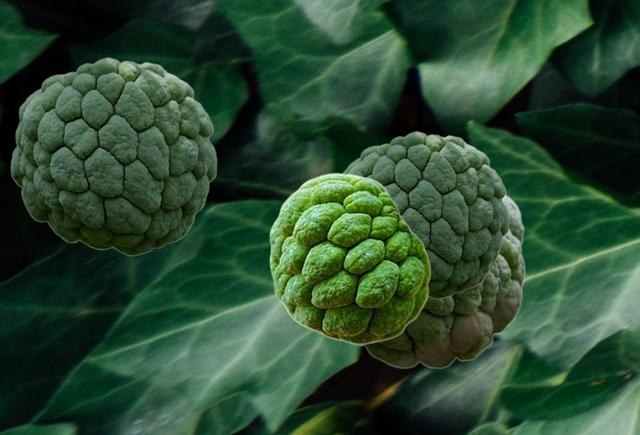atis: (10, 57, 216, 255), (357, 194, 525, 368), (342, 131, 508, 298), (269, 172, 430, 344)
